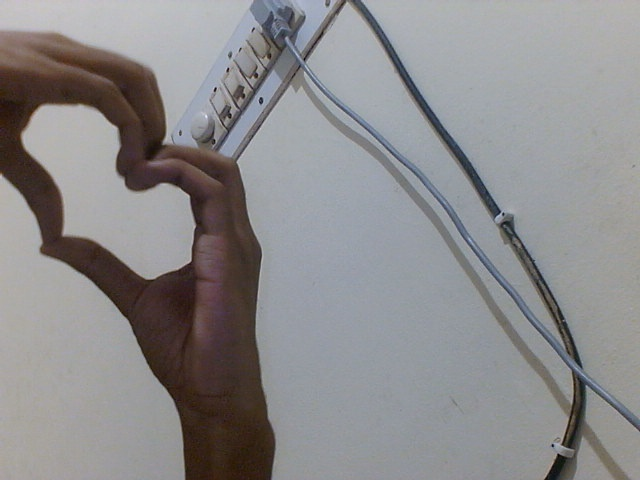hand: (25, 143, 286, 451), (2, 21, 178, 243)
